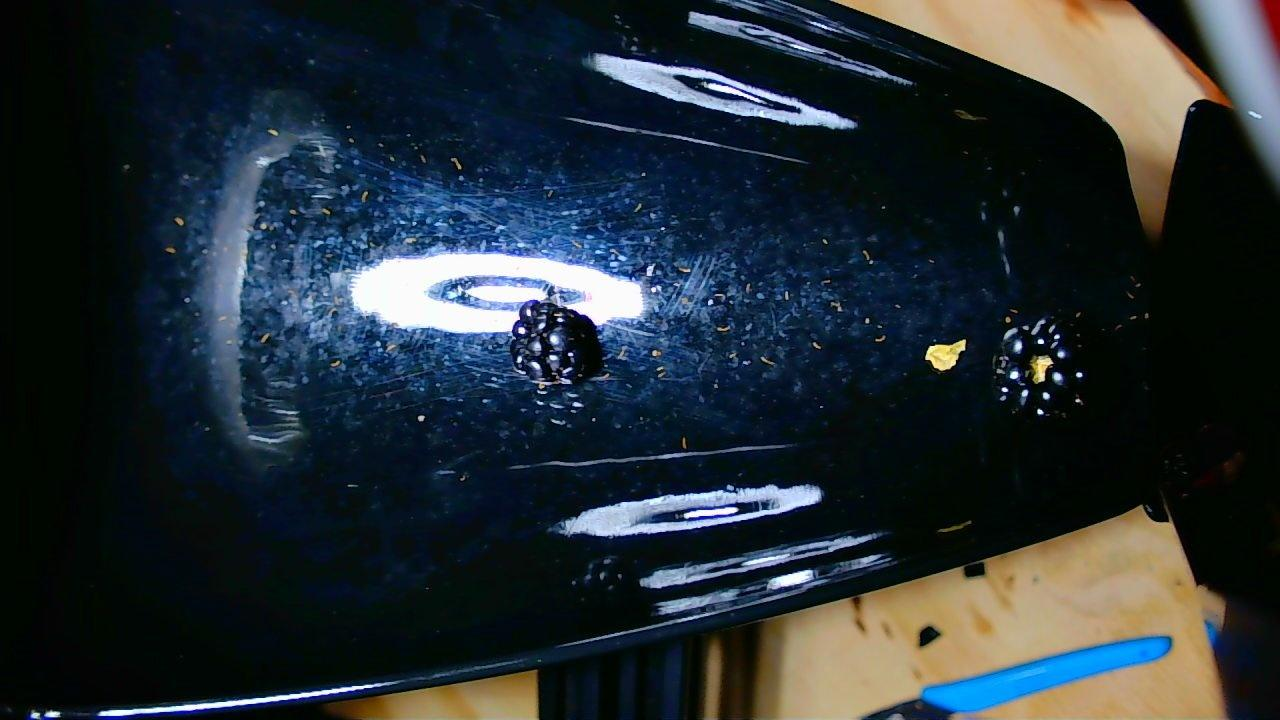berry: (993, 316, 1094, 419), (509, 300, 602, 383)
